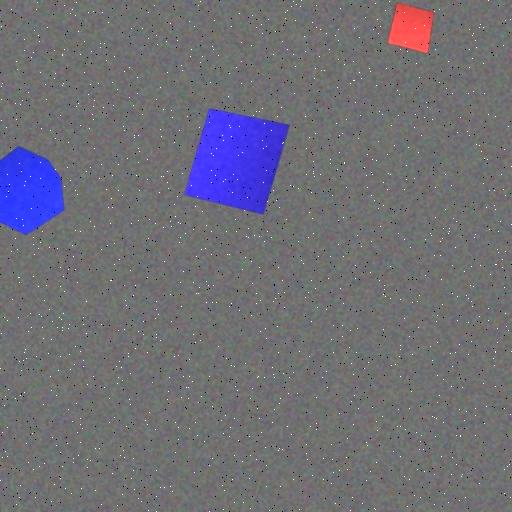BLUE_SQUARE: (184, 107, 290, 215)
RED_SQUARE: (386, 2, 436, 54)
